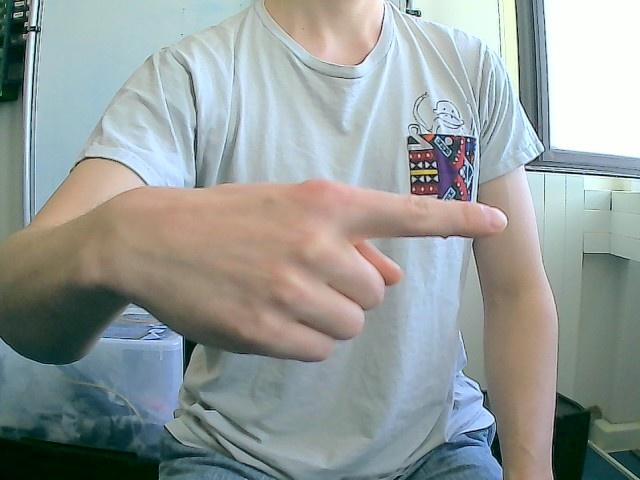left: (104, 177, 510, 364)
